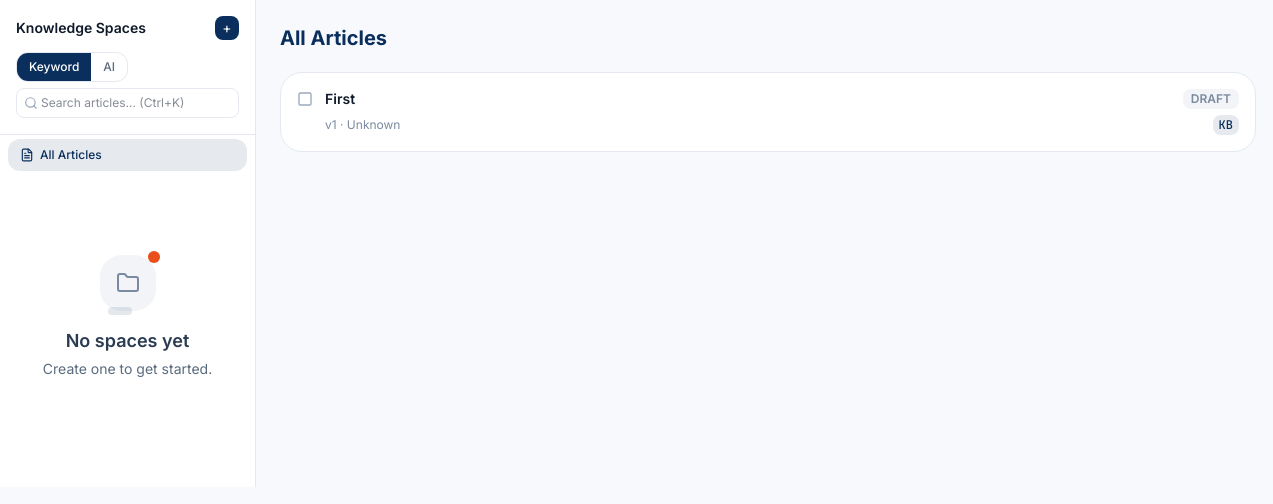
it: KnowledgeView › shows the BulkActionBar when at least one article is selected (KR-038)
The image size is (1273, 504).
Click the checkbox at point(768, 112), box [280,72,1256,152]
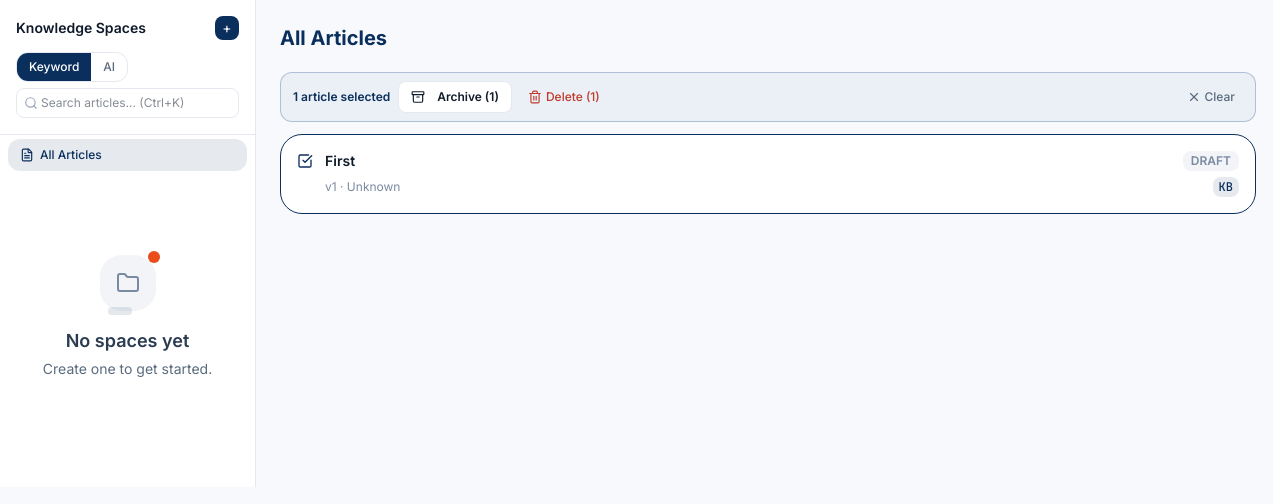
Expected: the element named "bulk actions for 1" is shown, [280,72,1256,122]
